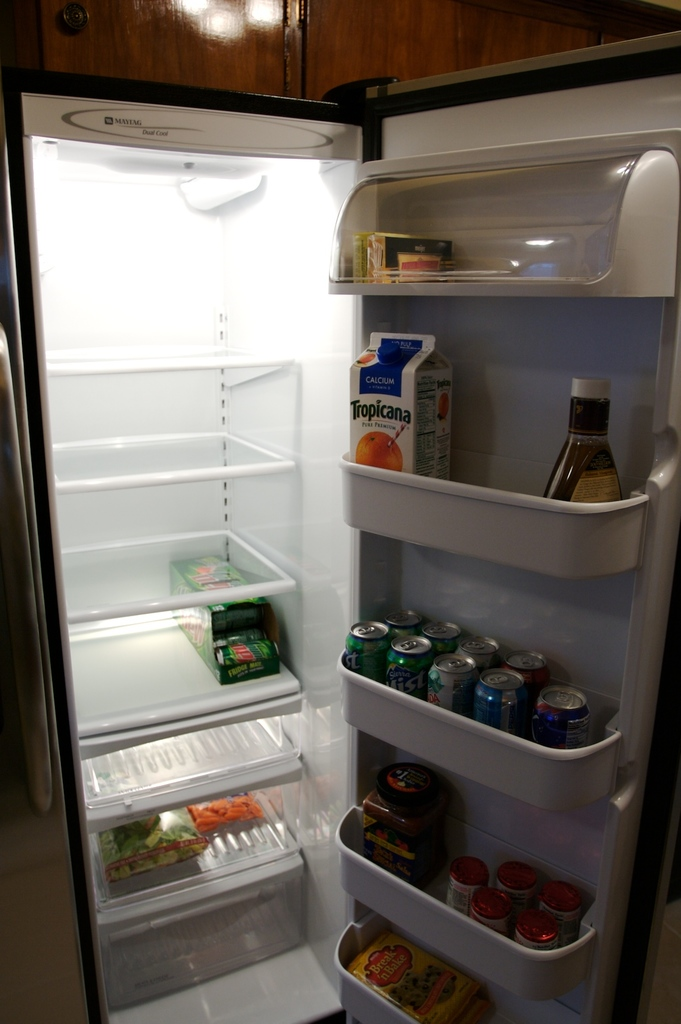handle: (0, 319, 93, 859)
refrigerator door: (373, 110, 644, 1024), (0, 138, 105, 1006)
